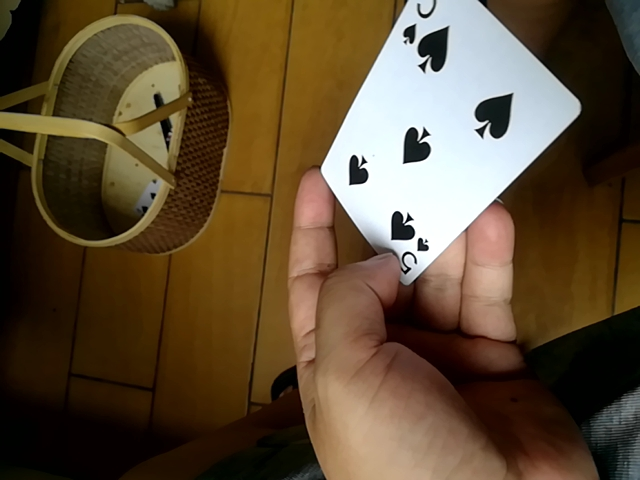ht 5: (316, 0, 581, 280)
